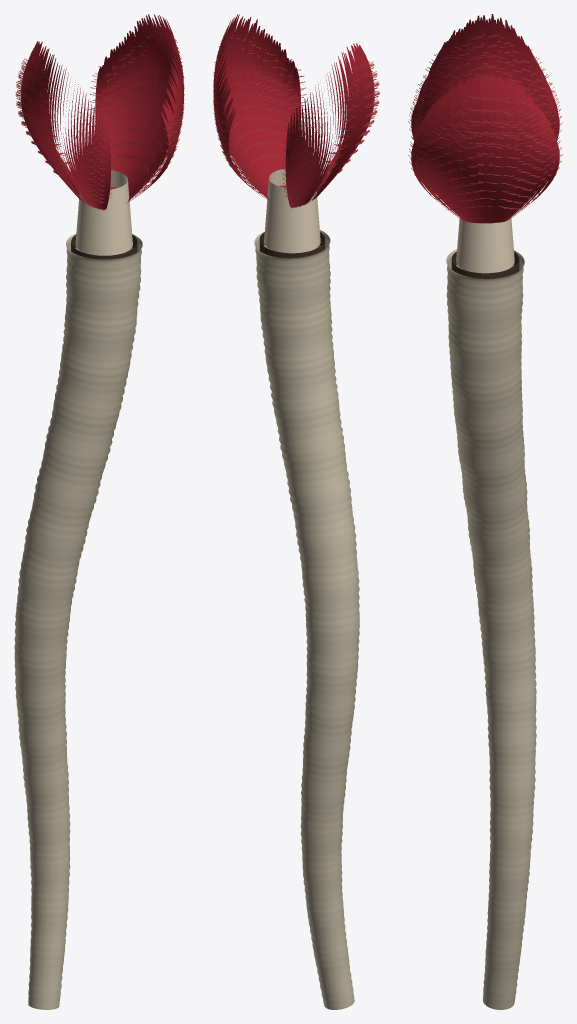
File: riftia.glb
3 views of the same model, side by side, from view 1: azimuth 30°, elevation 25°; view 2: azimuth 150°, elevation 25°; view 3: azimuth 270°, elevation 25° (orthographic). The views are drawn at different scales.
Visible parts, largest first — view 1: Protective_tube, Respiratory_plume, Gill_pinnules, Vestimentum, Tube_lumen; view 2: Protective_tube, Respiratory_plume, Vestimentum, Gill_pinnules, Tube_lumen; view 3: Protective_tube, Respiratory_plume, Gill_pinnules, Vestimentum, Tube_lumen.
Boxes of the visible parts, <box> form: Protective_tube: <box>14,234,142,1009</box>; Respiratory_plume: <box>21,14,183,210</box>; Gill_pinnules: <box>15,34,184,202</box>; Vestimentum: <box>75,170,132,255</box>; Tube_lumen: <box>71,234,137,259</box>; Protective_tube: <box>254,230,359,1009</box>; Respiratory_plume: <box>213,14,374,208</box>; Vestimentum: <box>264,168,320,253</box>; Gill_pinnules: <box>213,29,379,201</box>; Tube_lumen: <box>259,232,324,258</box>; Protective_tube: <box>446,249,536,1009</box>; Respiratory_plume: <box>411,14,559,223</box>; Gill_pinnules: <box>408,33,562,210</box>; Vestimentum: <box>456,217,514,273</box>; Tube_lumen: <box>451,251,519,278</box>.
Bounding box in the file's own units: 0.4929 × 3.15 × 0.446.
